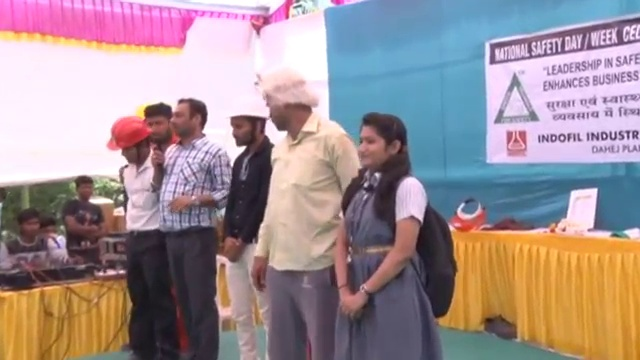helmet: (106, 116, 152, 152), (221, 96, 271, 122)
helmet_off: (252, 71, 318, 135), (350, 115, 411, 182), (170, 98, 208, 146), (142, 105, 171, 144), (17, 208, 42, 240), (75, 178, 94, 204)
helmet_on: (220, 99, 270, 151), (108, 117, 153, 169)
person: (330, 105, 458, 360), (251, 68, 360, 360), (162, 91, 231, 360), (218, 100, 276, 360), (107, 117, 166, 360), (0, 208, 53, 282), (61, 178, 105, 262)
